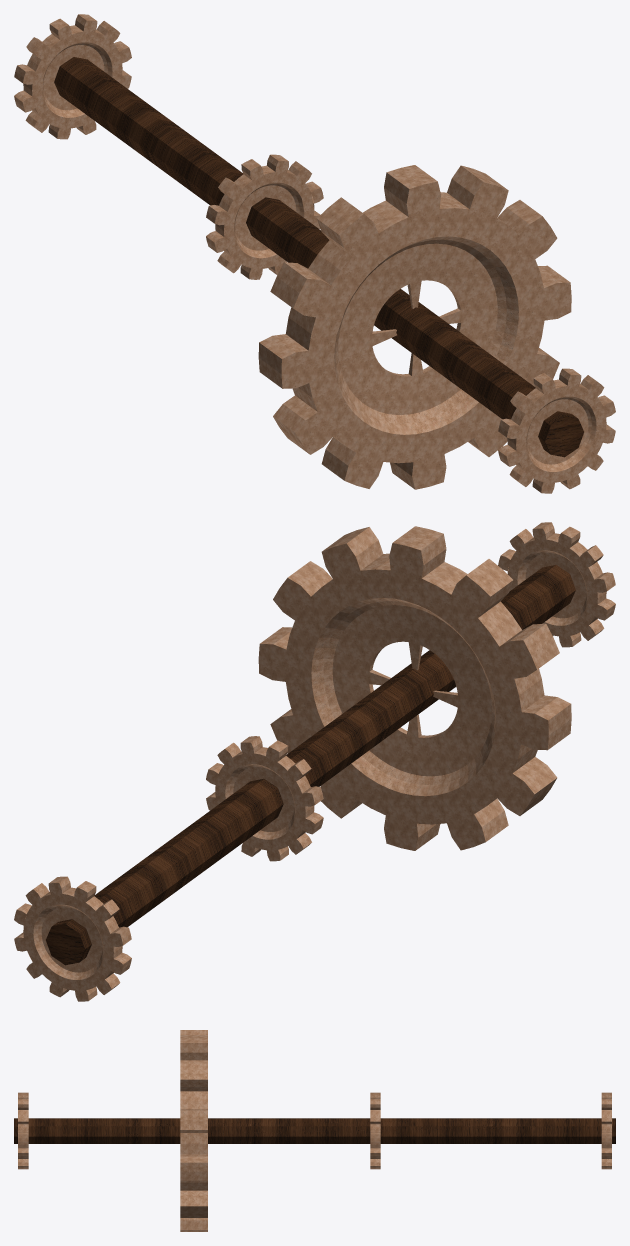
The model's file is xenotown-clock-geary.glb.
The picture shows the model from 3 angles, top to bottom: view 1: azimuth 30°, elevation 25°; view 2: azimuth 150°, elevation 25°; view 3: azimuth 270°, elevation 25°; orthographic projection. The views are drawn at different scales.
Visible parts, largest first — view 1: GearsY; view 2: GearsY; view 3: GearsY.
Part boxes in pixels (x1,y1,x2,y2): GearsY: (14, 14, 615, 493); GearsY: (14, 522, 615, 1001); GearsY: (14, 1030, 615, 1231).
Bounding box in the file's own units: 4.43 × 4.43 × 13.22.
Materials: 2 (2 with a texture image).
